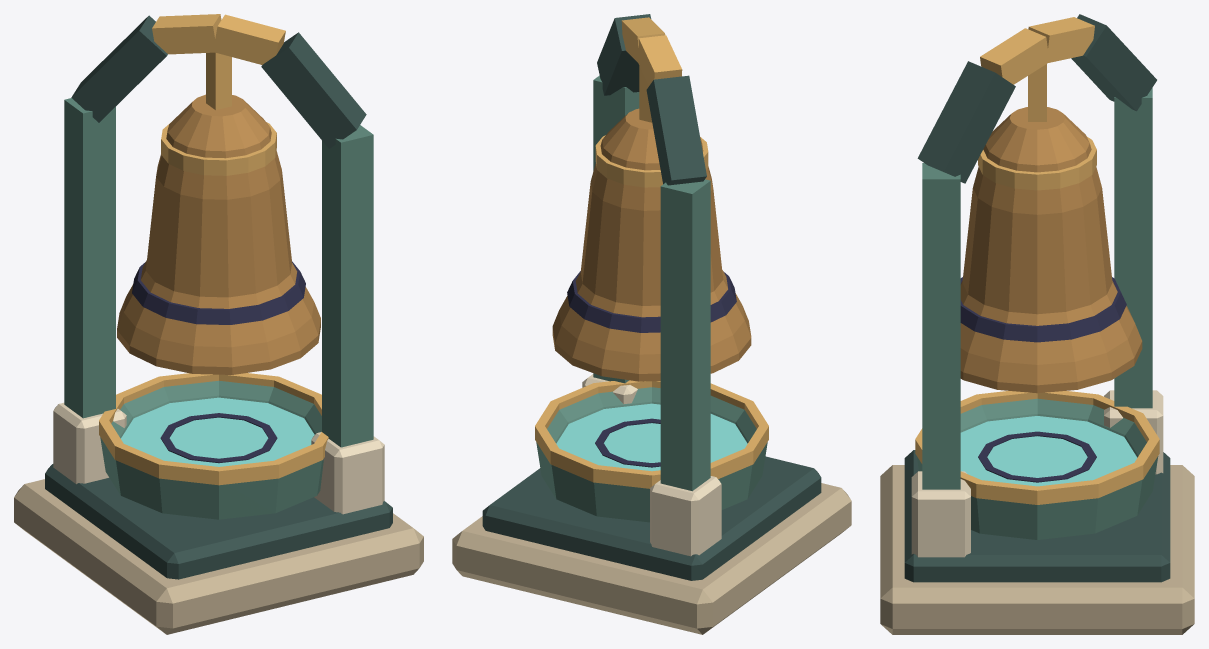
Rendered from Tower_TideBellL1.fbx.
The picture shows the model from 3 angles, left to right: view 1: azimuth 30°, elevation 25°; view 2: azimuth 150°, elevation 25°; view 3: azimuth 270°, elevation 25°; orthographic projection. The views are drawn at different scales.
Parts seen in each view (by area): view 1: Tower_TideBellL1; view 2: Tower_TideBellL1; view 3: Tower_TideBellL1.
Boxes of the visible parts, x1=… form: Tower_TideBellL1: x1=14, y1=14, x2=423, y2=634; Tower_TideBellL1: x1=452, y1=14, x2=851, y2=634; Tower_TideBellL1: x1=880, y1=14, x2=1194, y2=634.
Bounding box in the file's own units: 0.9 × 1.71 × 0.9.
